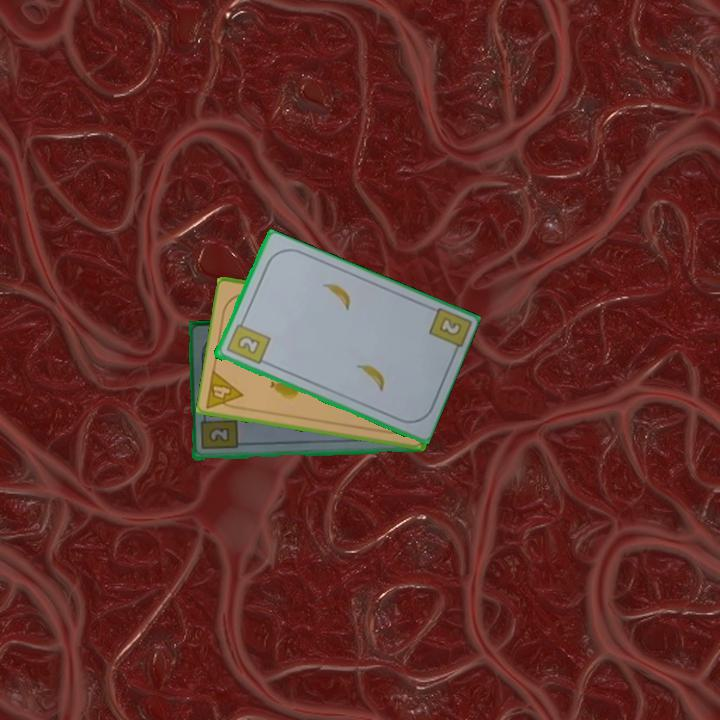2b: (223, 316, 273, 367), (197, 411, 240, 452), (435, 313, 462, 337)
4p: (203, 367, 246, 413)
